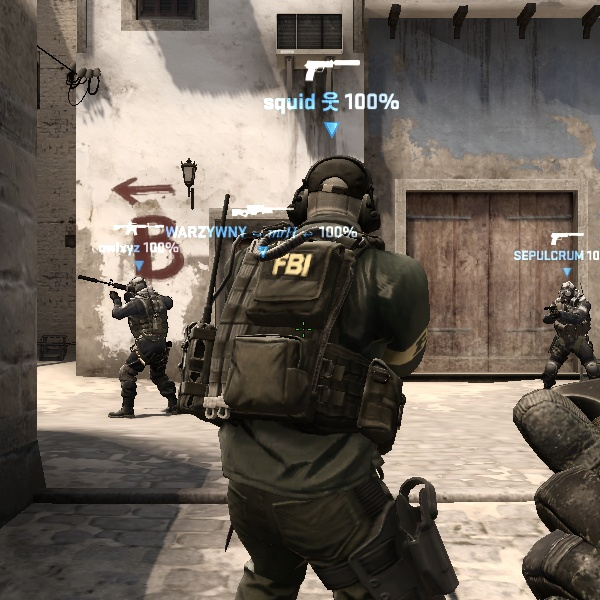ct_body: (216, 150, 436, 512), (101, 274, 189, 421), (532, 277, 595, 391)
ct_head: (279, 145, 392, 254), (119, 272, 157, 308), (554, 278, 584, 309)
